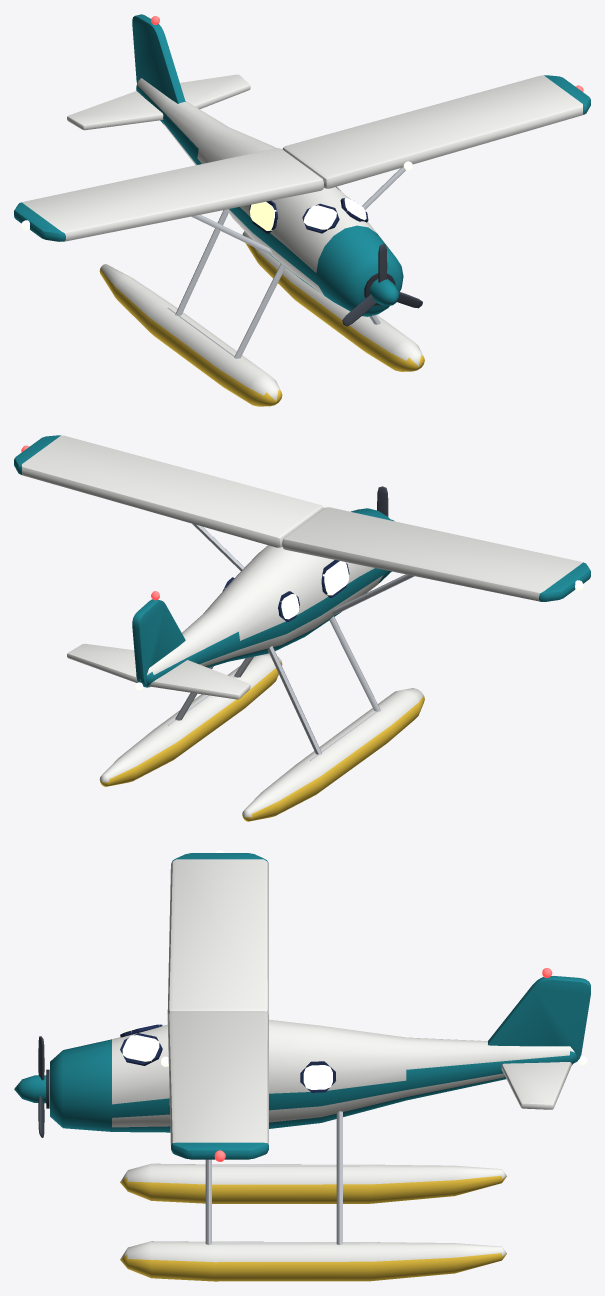
File: hidroaviao_turquesa.glb
The picture shows the model from 3 angles, top to bottom: view 1: azimuth 30°, elevation 25°; view 2: azimuth 150°, elevation 25°; view 3: azimuth 270°, elevation 25°; orthographic projection. The views are drawn at different scales.
Parts seen in each view (by area): view 1: hidroaviao_turquesa, helice; view 2: hidroaviao_turquesa; view 3: hidroaviao_turquesa, helice.
Part boxes in pixels (box(x1,y1,x2,y2)): hidroaviao_turquesa: box(14, 14, 590, 406); helice: box(342, 243, 422, 326); hidroaviao_turquesa: box(14, 435, 590, 821); hidroaviao_turquesa: box(46, 850, 590, 1281); helice: box(14, 1036, 46, 1137).
Size of the model in its own units: 13.78 by 5.74 by 11.03.
Materials: 5 (1 with a texture image).
